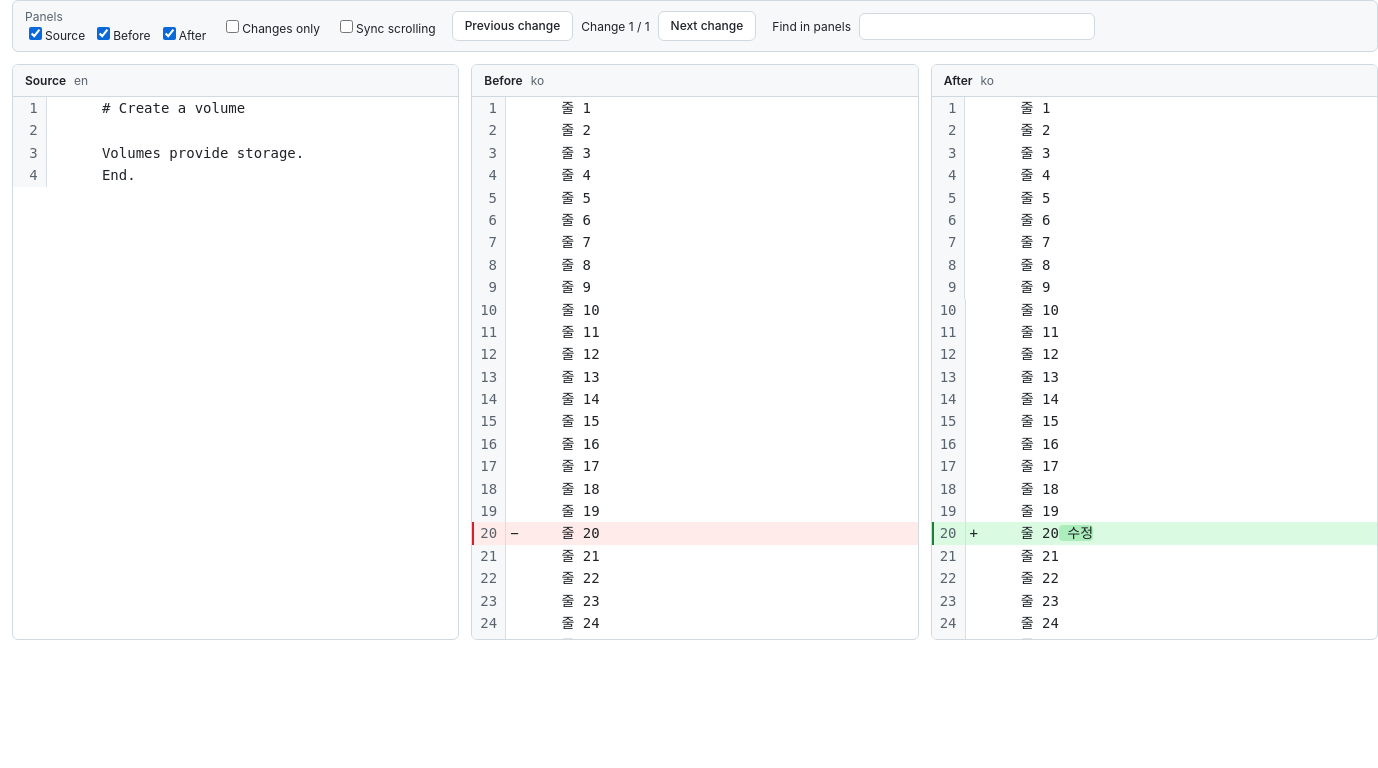
Test: changes only › labels how many lines a gap skipped
This screenshot has width=1378, height=768.
What coordinates should you click on to do the following:
click the checkbox labelled "Changes only"
I would click on:
 (233, 26)
Its box is [226,20,239,32].
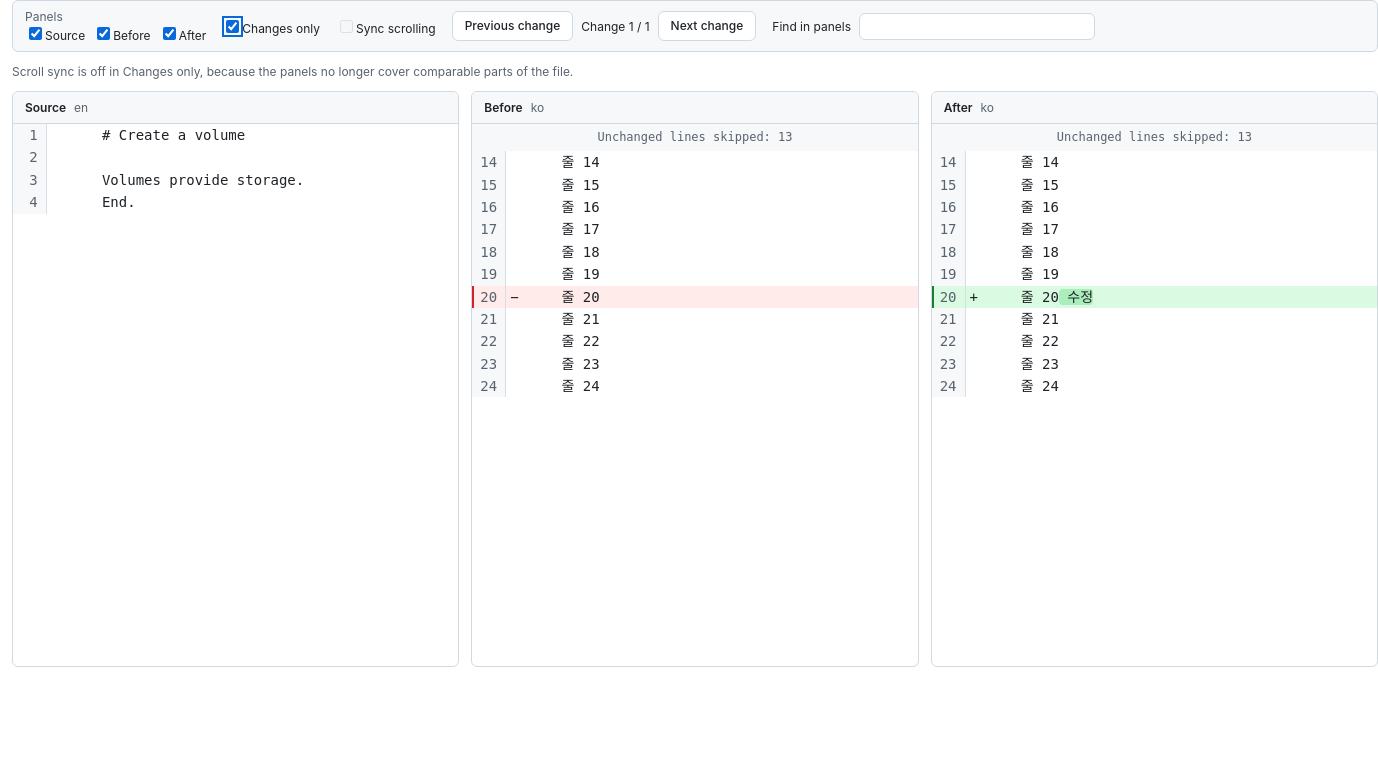
Now the 2nd text "Unchanged lines skipped: 13" is shown, box [1057,130,1252,144]
